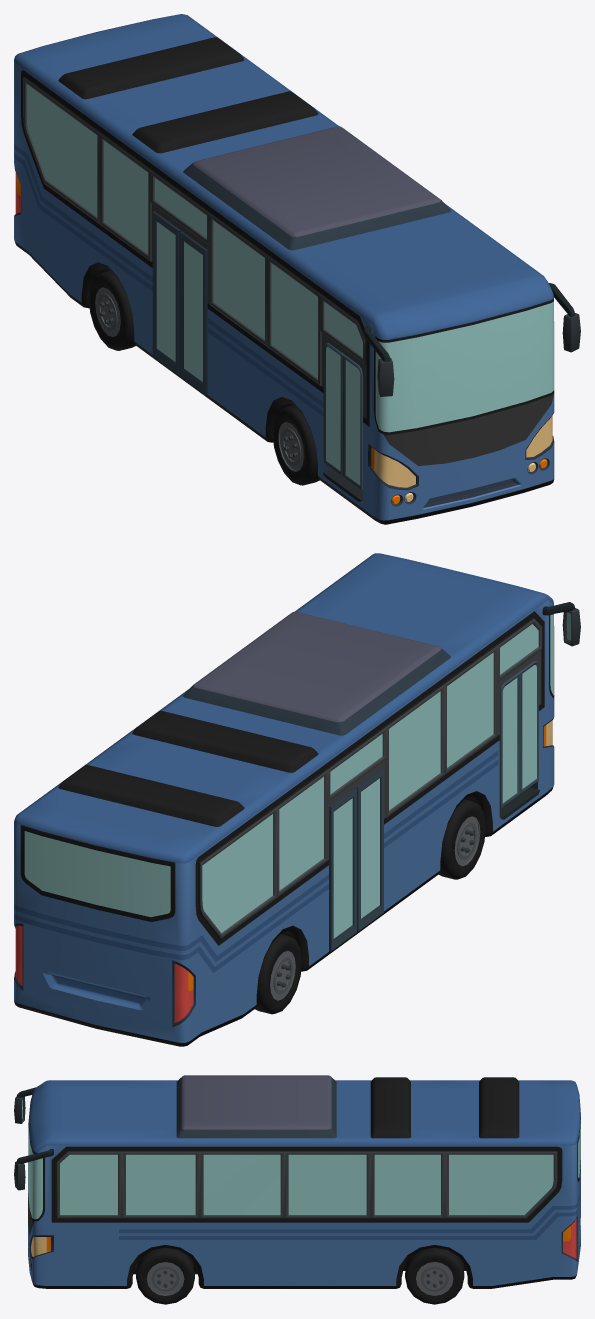
Rendered from SM_Vehicles_Bus_V1.fbx.
3 renders of one model, top to bottom at view 1: azimuth 30°, elevation 25°; view 2: azimuth 150°, elevation 25°; view 3: azimuth 270°, elevation 25°, orthographic. The views are drawn at different scales.
Visible parts, largest first — view 1: SM_Vehicles_Bus_V1, SM_Vehicles_Bus_FR, SM_Vehicles_Bus_RR; view 2: SM_Vehicles_Bus_V1, SM_Vehicles_Bus_RR, SM_Vehicles_Bus_FR; view 3: SM_Vehicles_Bus_V1, SM_Vehicles_Bus_RL, SM_Vehicles_Bus_FL.
Boxes of the visible parts, x1=… form: SM_Vehicles_Bus_V1: x1=14, y1=14, x2=580, y2=524; SM_Vehicles_Bus_FR: x1=272, y1=405, x2=319, y2=485; SM_Vehicles_Bus_RR: x1=88, y1=270, x2=135, y2=350; SM_Vehicles_Bus_V1: x1=14, y1=553, x2=580, y2=1046; SM_Vehicles_Bus_RR: x1=255, y1=934, x2=301, y2=1014; SM_Vehicles_Bus_FR: x1=438, y1=799, x2=485, y2=879; SM_Vehicles_Bus_V1: x1=14, y1=1075, x2=580, y2=1288; SM_Vehicles_Bus_RL: x1=405, y1=1247, x2=464, y2=1304; SM_Vehicles_Bus_FL: x1=136, y1=1247, x2=194, y2=1304.
Size of the model in its own units: 2.3 by 2.59 by 7.67.
